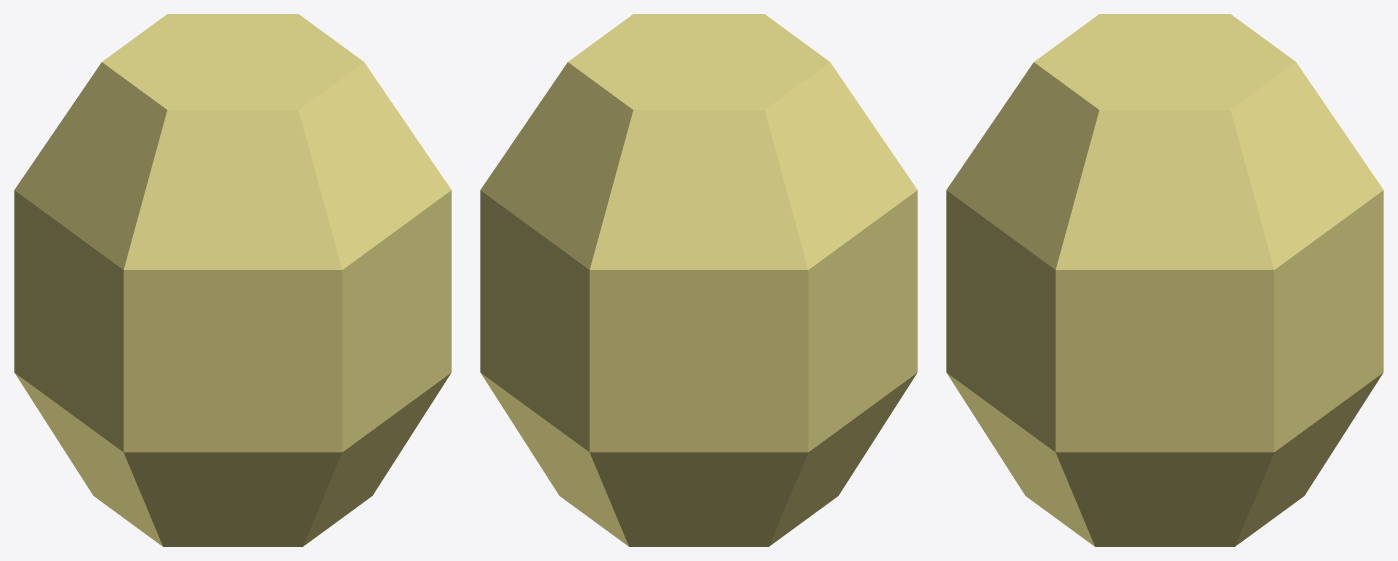
File: Yellow_Barrel.fbx
3 renders of one model, left to right at view 1: azimuth 30°, elevation 25°; view 2: azimuth 150°, elevation 25°; view 3: azimuth 270°, elevation 25°, orthographic.
Parts seen in each view (by area): view 1: Cylinder; view 2: Cylinder; view 3: Cylinder.
Part boxes in pixels (<box>): Cylinder: <box>14,14,451,546</box>; Cylinder: <box>480,14,917,546</box>; Cylinder: <box>946,14,1383,546</box>.
Bounding box in the file's own units: 112 × 141 × 129.
